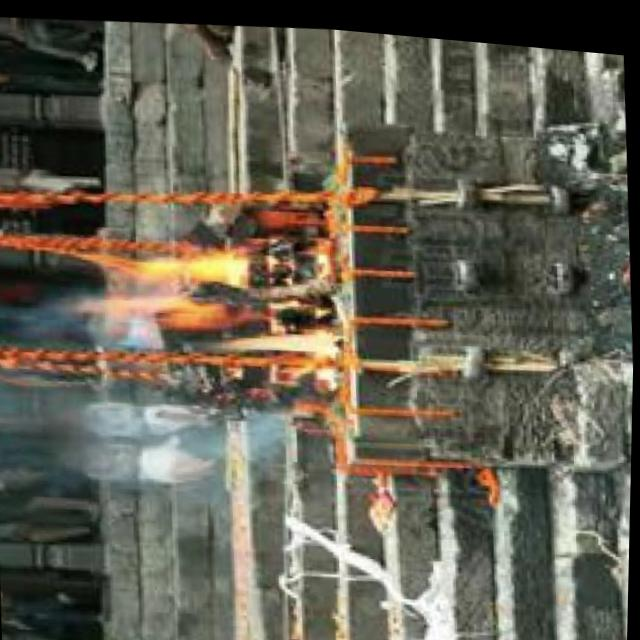Fire: (64, 229, 347, 386)
